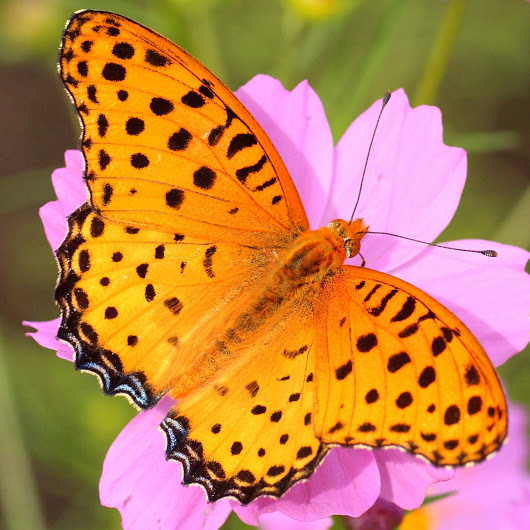Argyreus hyperbius: (48, 3, 514, 512)
butterfly: (46, 1, 512, 510)
